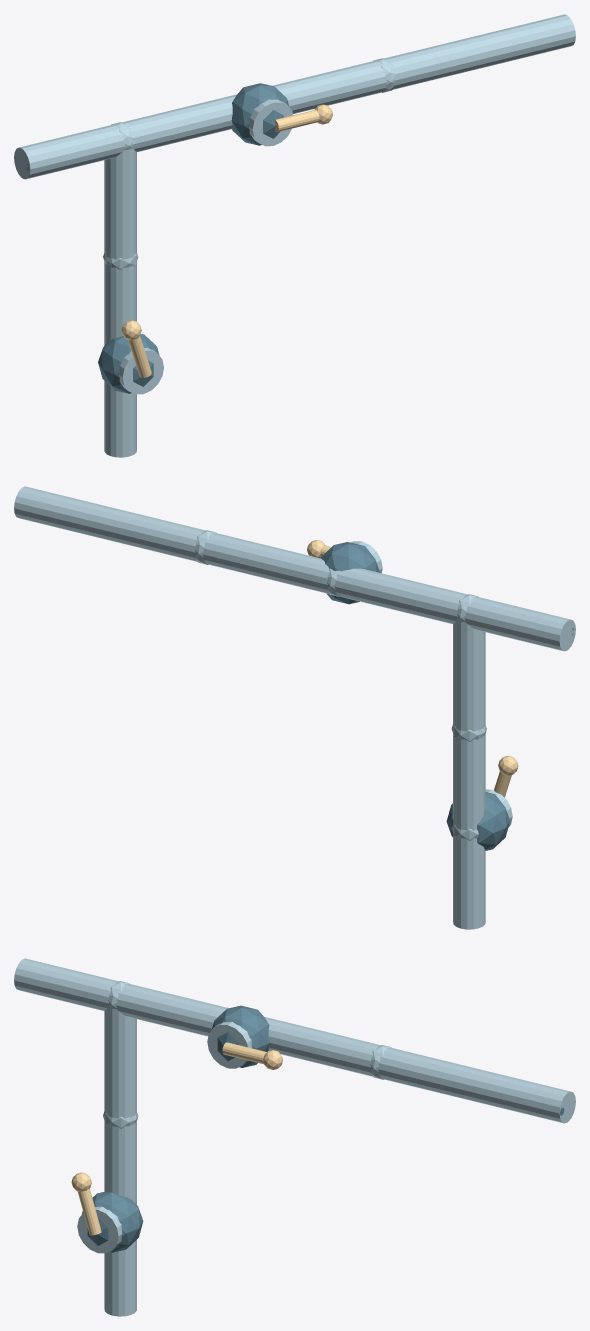
Rendered from water-10-0.glb.
3 renders of one model, top to bottom at view 1: azimuth 30°, elevation 25°; view 2: azimuth 150°, elevation 25°; view 3: azimuth 330°, elevation 25°, orthographic.
Parts seen in each view (by area): view 1: pipe, dark, handle; view 2: pipe, dark, handle; view 3: pipe, dark, handle.
Part boxes in pixels (x1,y1,x2,y2): pipe: (14, 14, 575, 457); dark: (26, 83, 289, 393); handle: (121, 104, 332, 377); pipe: (14, 486, 575, 929); dark: (321, 542, 574, 850); handle: (307, 540, 518, 797); pipe: (14, 958, 575, 1316); dark: (82, 1005, 564, 1252); handle: (71, 1042, 282, 1235).
Bounding box in the file's own units: 2.77 × 1.65 × 0.343.
